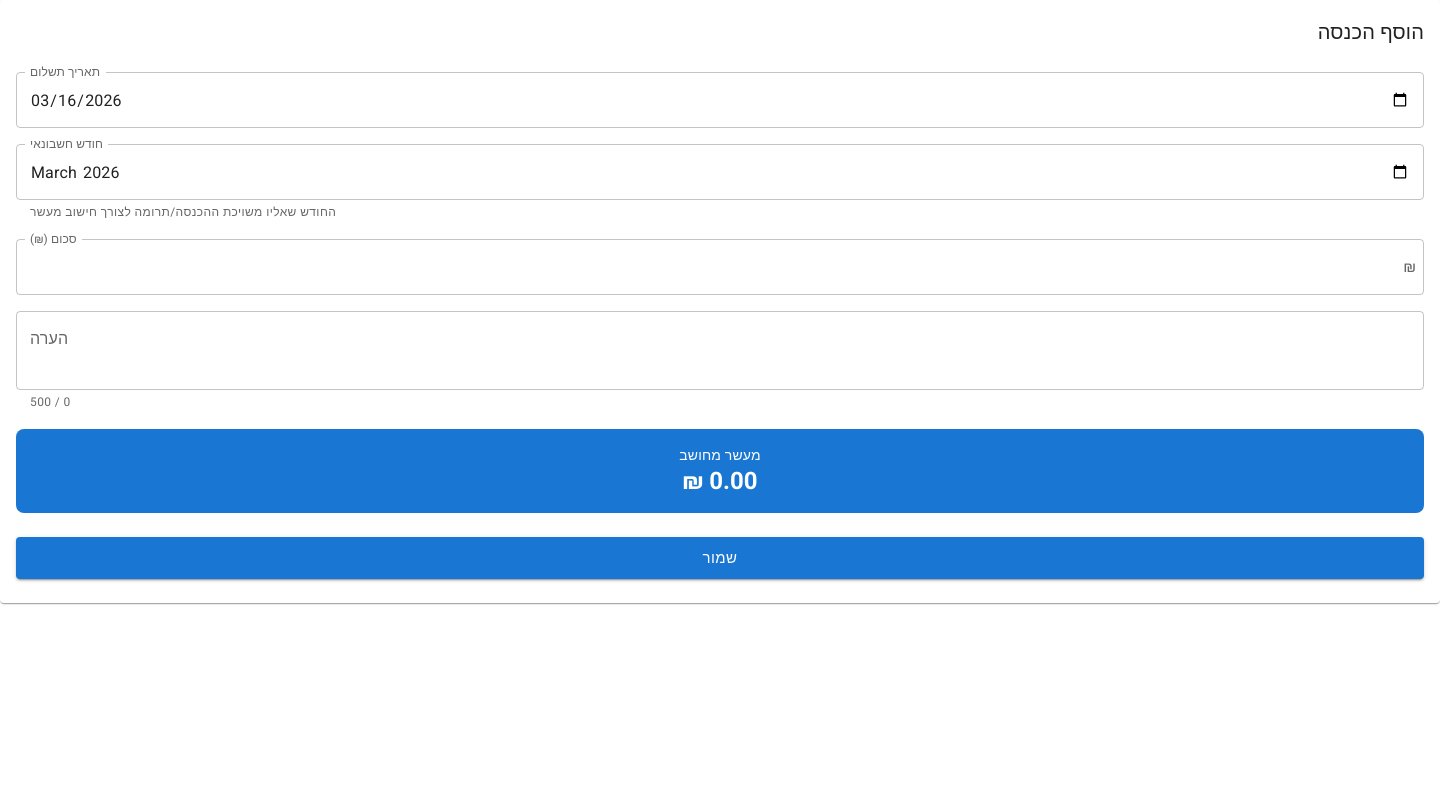
Test: AddIncome Component › form validation › should show error for zero amount
This screenshot has width=1440, height=810.
In the number field labelled "סכום (₪)": (717, 267) left=30, top=239, right=1404, bottom=295, type "0"
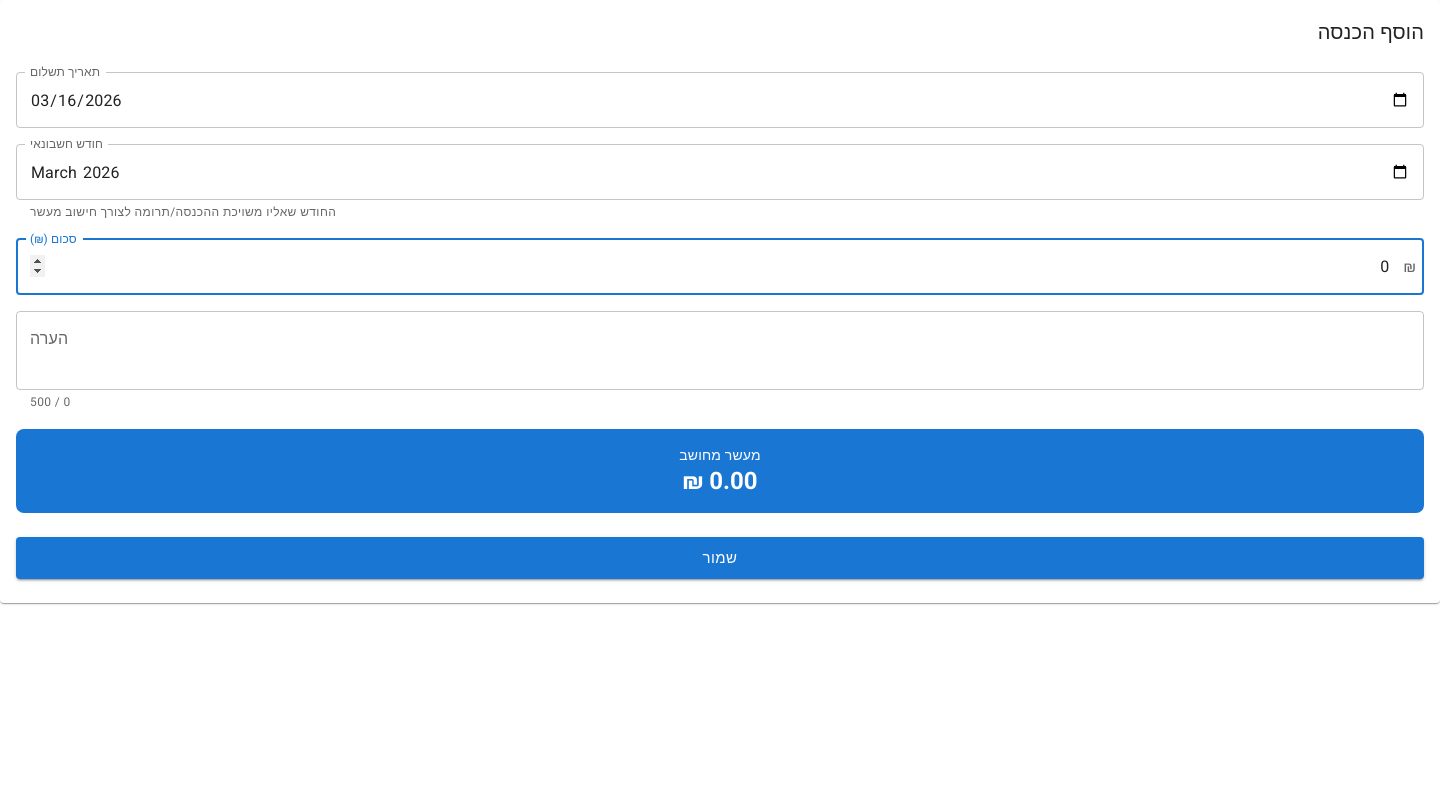
Click the button "שמור": click(720, 558) left=16, top=537, right=1424, bottom=579
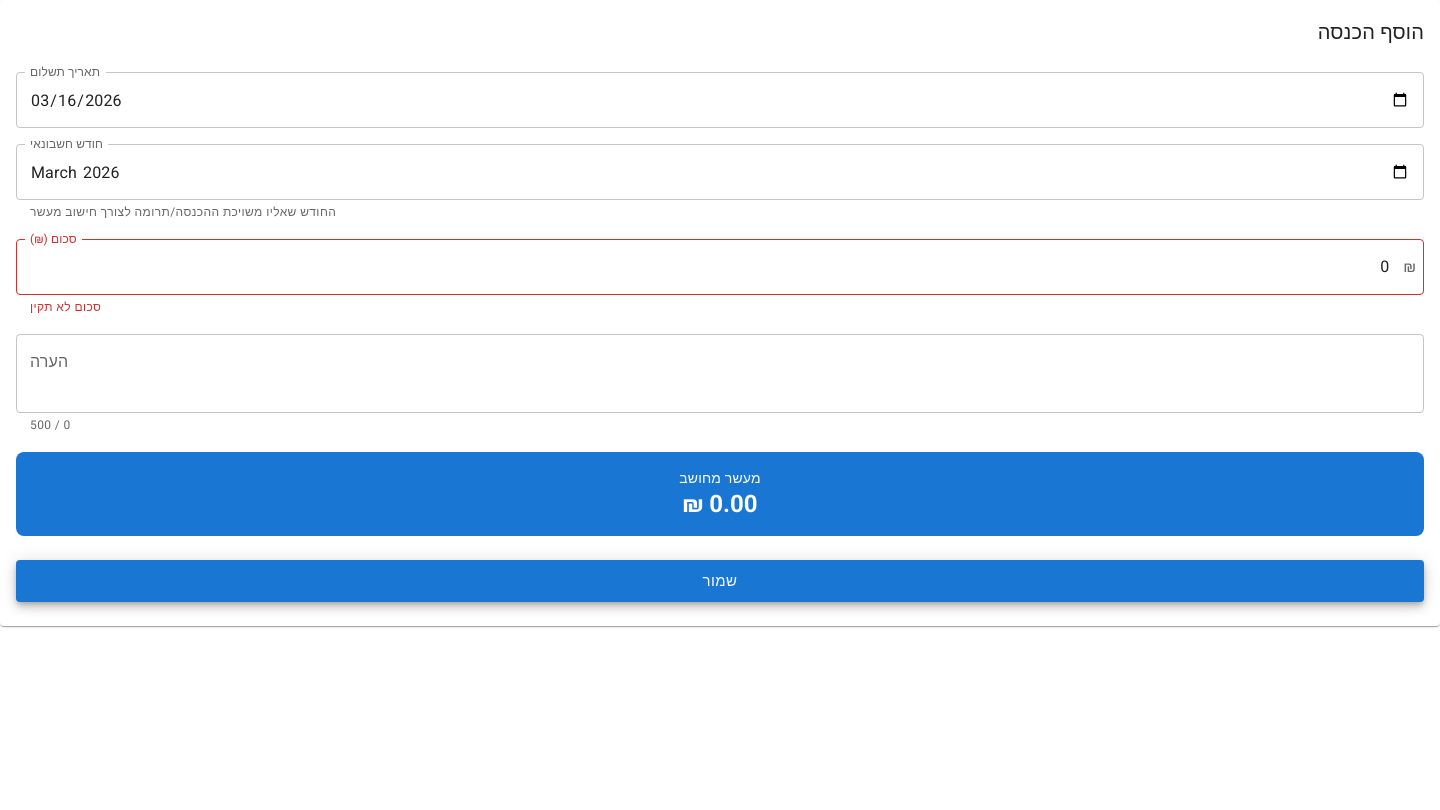
Check: the text "סכום לא תקין" is shown, box left=30, top=300, right=101, bottom=314
